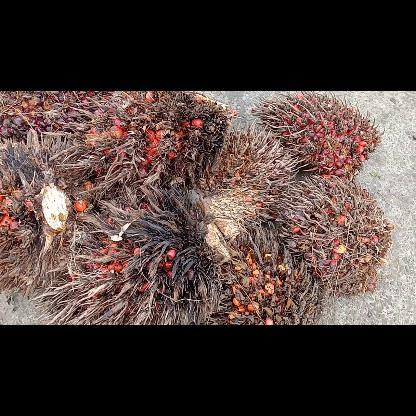Terlalu masak: (35, 186, 237, 324), (56, 90, 232, 184), (0, 137, 91, 294), (276, 174, 394, 294), (251, 90, 381, 178), (198, 120, 296, 228), (220, 224, 322, 324), (0, 91, 107, 142)
